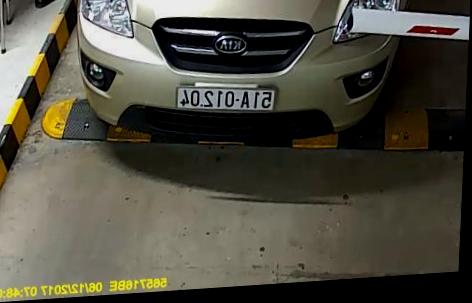License_Plate: (170, 79, 281, 121)
